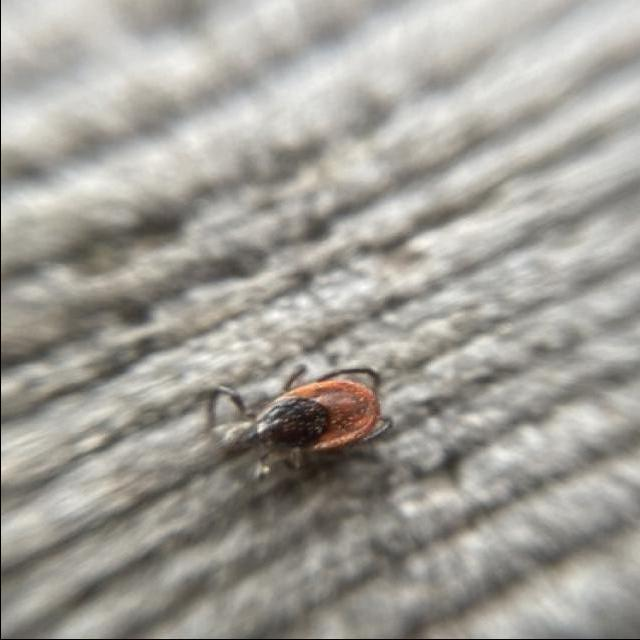Ixodes Ricinus-F: (207, 366, 393, 471)
